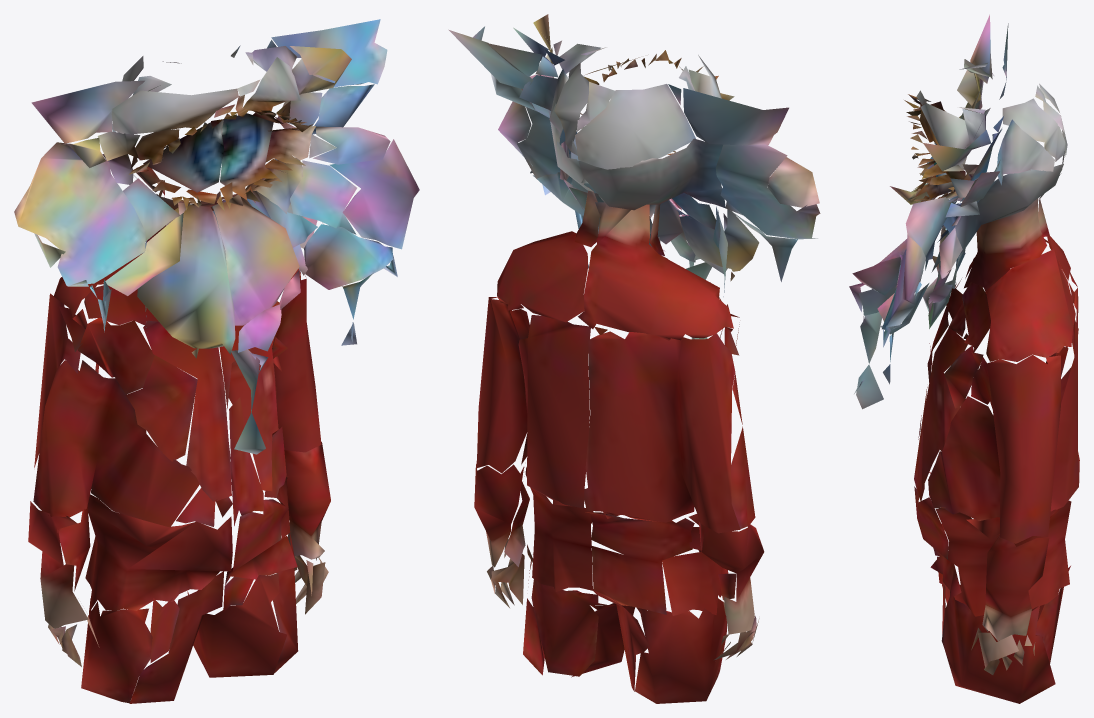
Rendered from crowd_tracksuit_body.glb.
The picture shows the model from 3 angles, left to right: view 1: azimuth 30°, elevation 25°; view 2: azimuth 150°, elevation 25°; view 3: azimuth 270°, elevation 25°; orthographic projection. The views are drawn at different scales.
Parts seen in each view (by area): view 1: tripo_node_d1e8ef6d-d458-4694-b6ff-342853e9222a; view 2: tripo_node_d1e8ef6d-d458-4694-b6ff-342853e9222a; view 3: tripo_node_d1e8ef6d-d458-4694-b6ff-342853e9222a.
Boxes of the visible parts, x1=… form: tripo_node_d1e8ef6d-d458-4694-b6ff-342853e9222a: x1=14, y1=19, x2=419, y2=703; tripo_node_d1e8ef6d-d458-4694-b6ff-342853e9222a: x1=448, y1=14, x2=820, y2=703; tripo_node_d1e8ef6d-d458-4694-b6ff-342853e9222a: x1=849, y1=14, x2=1079, y2=703.
Size of the model in its own units: 0.5093 by 0.8051 by 0.2918.
Materials: 1 (1 with a texture image).
